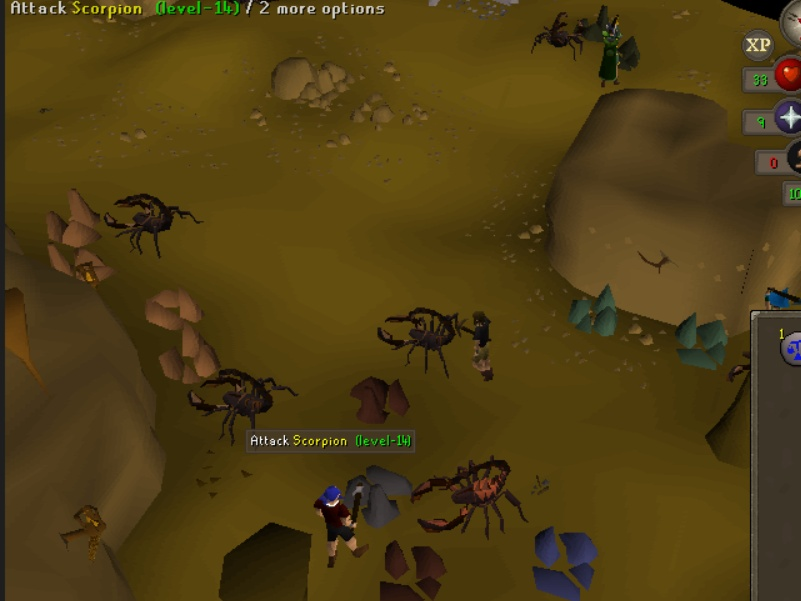adamant: (566, 278, 625, 339), (673, 309, 732, 370)
coal: (575, 4, 615, 46), (614, 30, 648, 72)
copper: (40, 185, 117, 248), (155, 320, 225, 388), (139, 282, 215, 332), (44, 240, 120, 290)
iron: (375, 536, 449, 601), (349, 371, 414, 425)
mithril: (529, 519, 600, 601)
